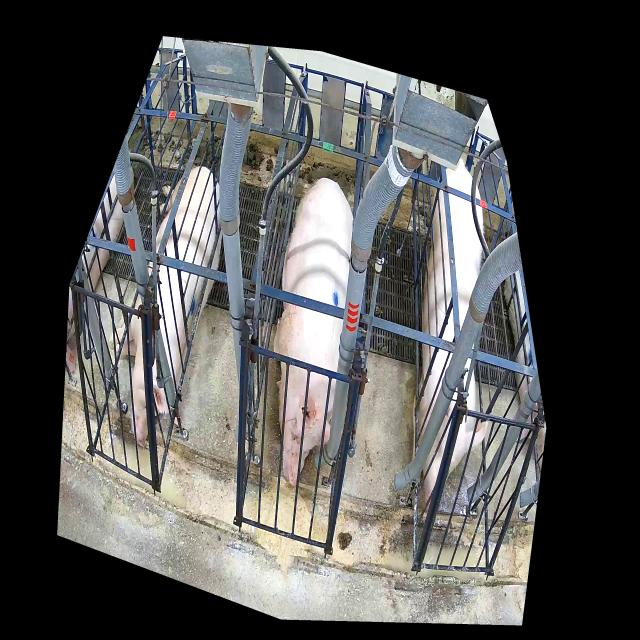pig: (108, 166, 222, 447), (412, 159, 489, 508), (273, 177, 353, 485)
